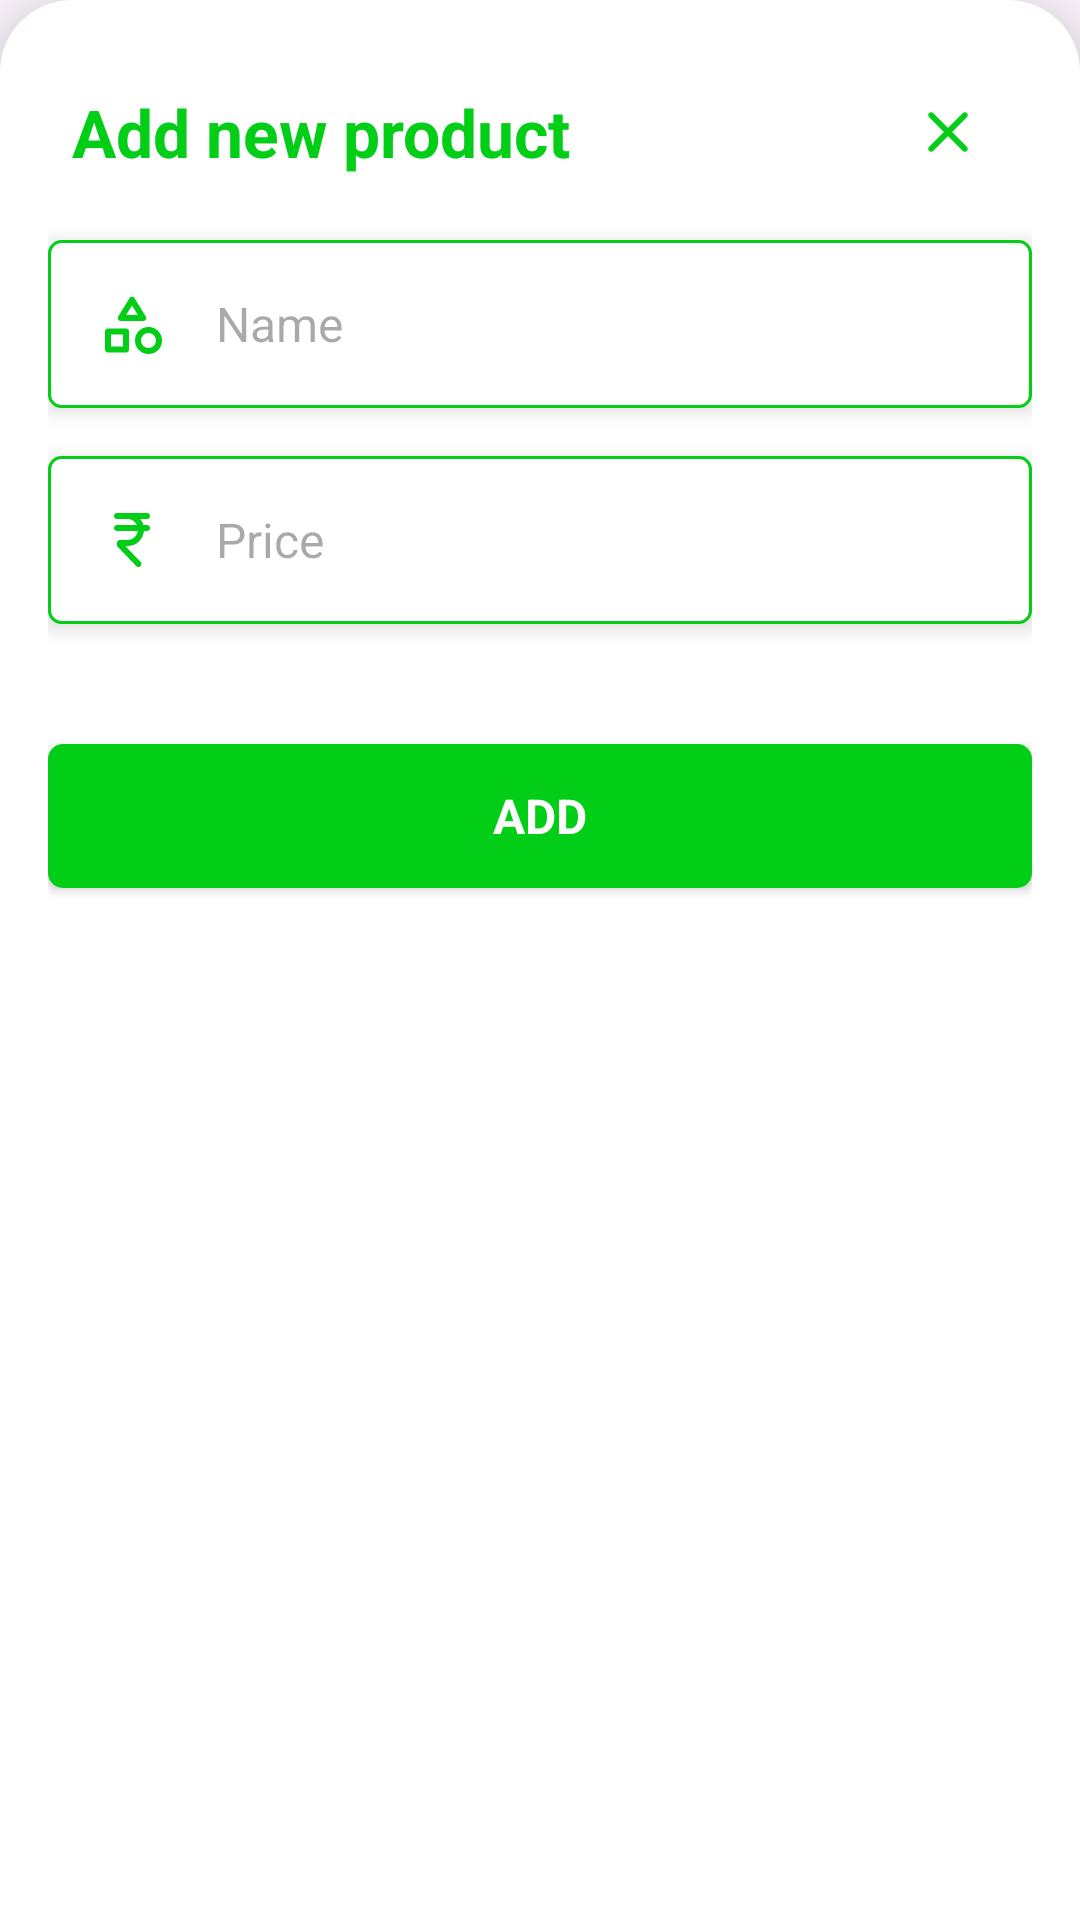

Where icons sit on this 1080px x 1920px app screen, as (x1, y1, x2, y2):
close: (928, 112, 968, 152)
